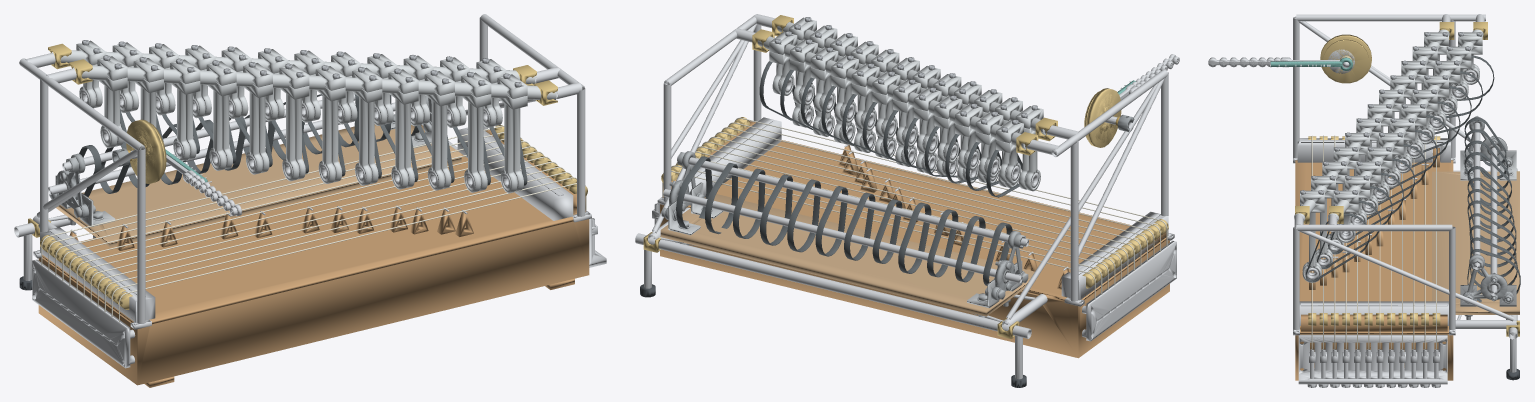
File: lovophon.glb
3 renders of one model, left to right at view 1: azimuth 30°, elevation 25°; view 2: azimuth 150°, elevation 25°; view 3: azimuth 270°, elevation 25°, orthographic. The views are drawn at different scales.
Parts seen in each view (by area): view 1: static, bridge_float, B_Driver; view 2: static, bridge_float, B_Driver; view 3: static, bridge_float, C_Rocker, C_LongArmRotor, B_Driver, C_Output.
Boxes of the visible parts, x1,y1,x2,y2 form: static: (14,14,606,387); bridge_float: (457,127,573,220); B_Driver: (126,119,164,183); static: (635,14,1176,387); bridge_float: (682,117,781,205); B_Driver: (1086,88,1121,147); static: (1293,14,1520,387); bridge_float: (1299,301,1448,325); C_Rocker: (1282,39,1368,82); C_LongArmRotor: (1270,57,1352,70); B_Driver: (1320,34,1371,83); C_Output: (1328,49,1354,73).
Bounding box in the file's own units: 0.394 × 0.1972 × 0.2766.
